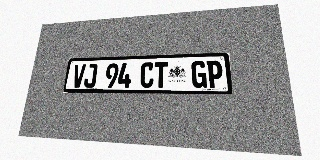4: (117, 63, 132, 88)
9: (105, 63, 119, 88)
C: (140, 62, 154, 88)
G: (191, 61, 207, 88)
J: (83, 64, 98, 88)
P: (207, 60, 224, 88)
T: (154, 62, 168, 88)
V: (71, 64, 86, 88)
